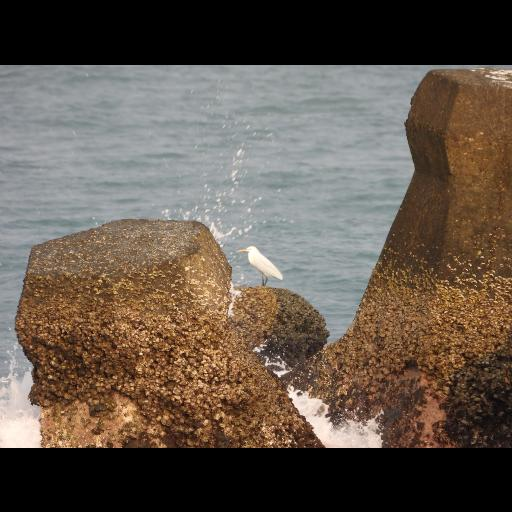chinese_egret: (234, 244, 284, 284)
